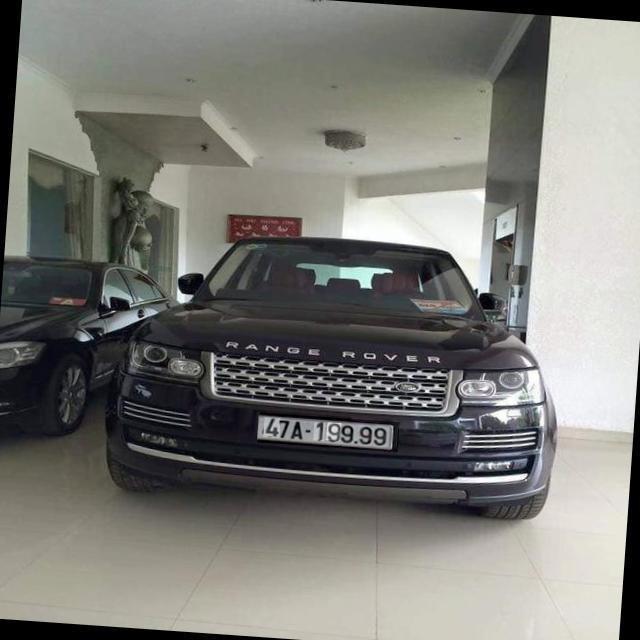car: (91, 230, 553, 518), (0, 258, 132, 447)
plate: (251, 408, 394, 453)
